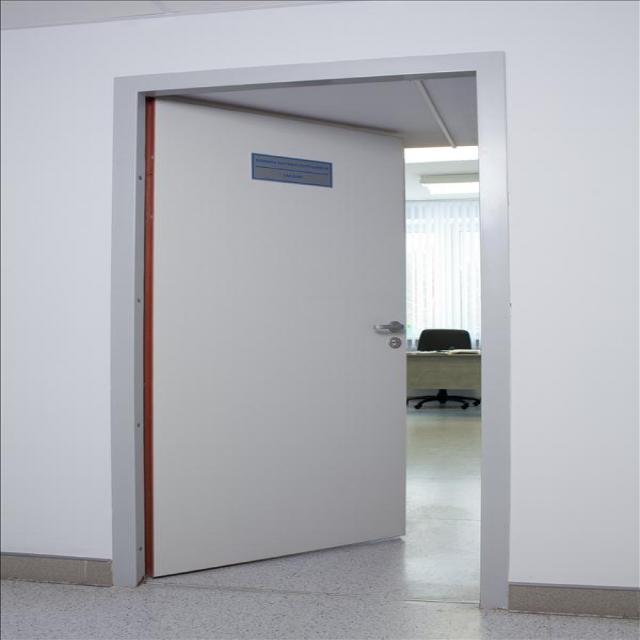open: (105, 77, 516, 608)
